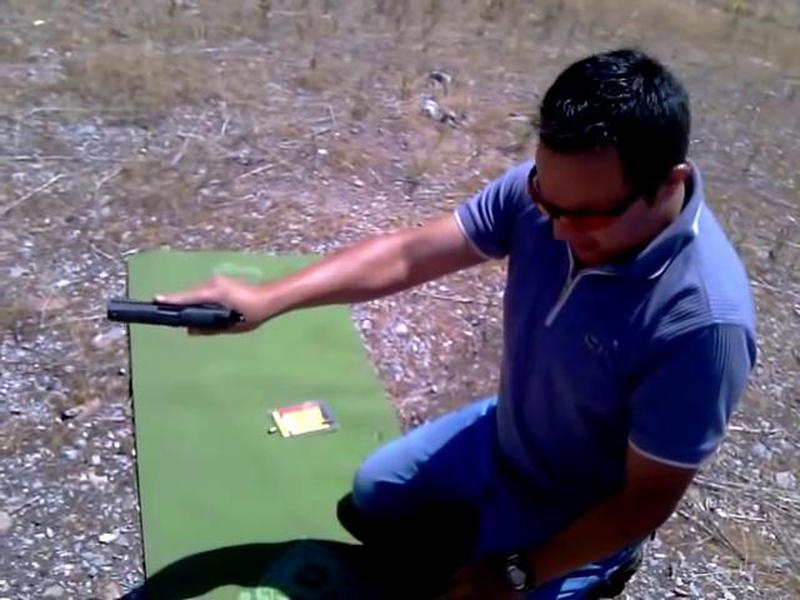Pistola: (94, 285, 250, 343)
